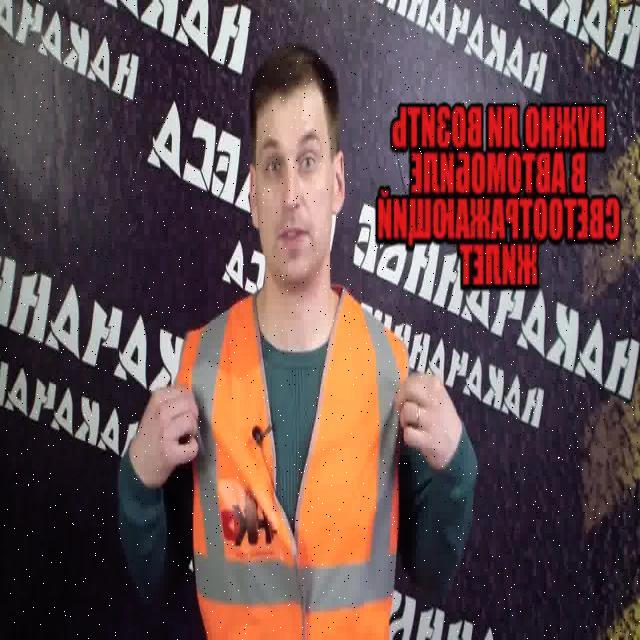Vest: (199, 292, 401, 640)
